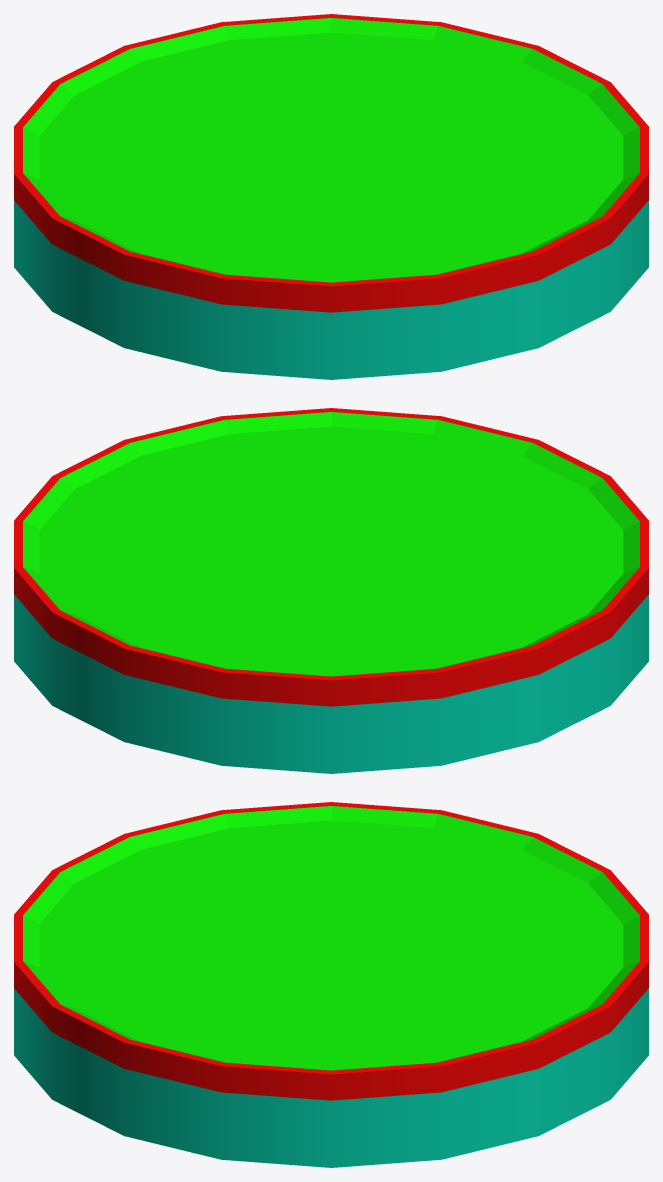
File: Roomba.FBX
3 renders of one model, top to bottom at view 1: azimuth 30°, elevation 25°; view 2: azimuth 150°, elevation 25°; view 3: azimuth 270°, elevation 25°, orthographic.
Parts seen in each view (by area): view 1: Cylinder001; view 2: Cylinder001; view 3: Cylinder001.
Boxes of the visible parts, x1=… form: Cylinder001: x1=14, y1=14, x2=648, y2=379; Cylinder001: x1=14, y1=408, x2=648, y2=773; Cylinder001: x1=14, y1=802, x2=648, y2=1167.
Bounding box in the file's own units: 20.5 × 3.28 × 20.18.
